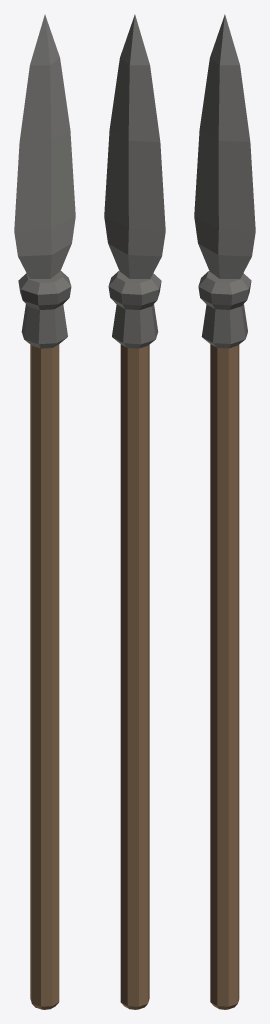
Rendered from SM_pwe_egypt_spear_01b.fbx.
3 renders of one model, left to right at view 1: azimuth 30°, elevation 25°; view 2: azimuth 150°, elevation 25°; view 3: azimuth 330°, elevation 25°, orthographic.
Parts seen in each view (by area): view 1: SM_pwe_egypt_spear_01b; view 2: SM_pwe_egypt_spear_01b; view 3: SM_pwe_egypt_spear_01b.
Boxes of the visible parts, x1=… form: SM_pwe_egypt_spear_01b: x1=14, y1=14, x2=75, y2=1009; SM_pwe_egypt_spear_01b: x1=104, y1=14, x2=165, y2=1009; SM_pwe_egypt_spear_01b: x1=194, y1=14, x2=255, y2=1009.
Bounding box in the file's own units: 11.59 × 179 × 8.97.
